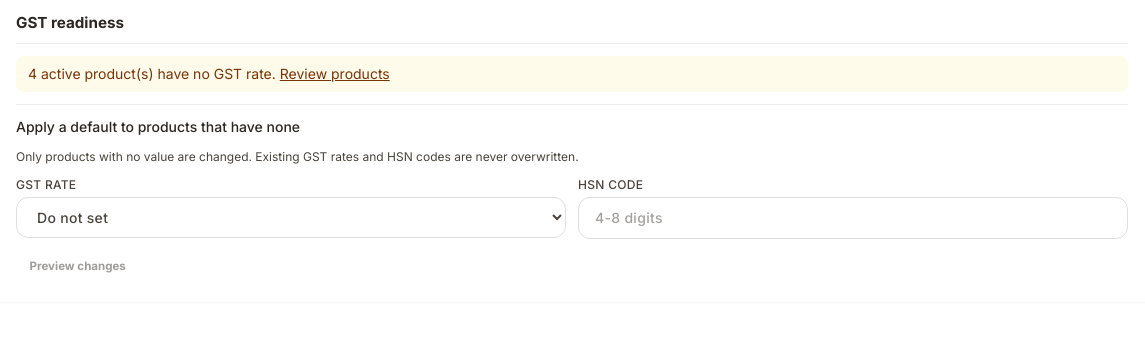
Test: InvoiceTaxReadiness › requires a preview and explicit confirmation before applying defaults
Expected: the button "Preview changes" is disabled, [16, 251, 139, 282]
Select "12%" in the dropdown named "Default GST rate for products" at (291, 217), box [16, 197, 566, 238]
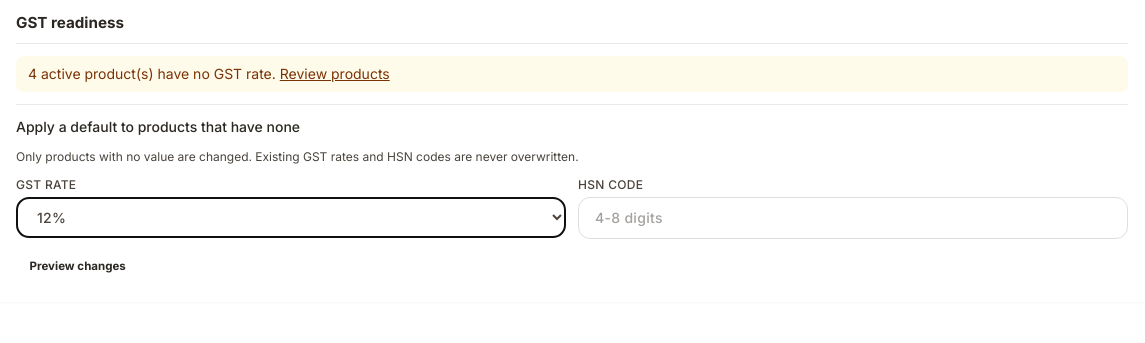
Click the button "Preview changes" at (78, 267), box [16, 251, 139, 282]
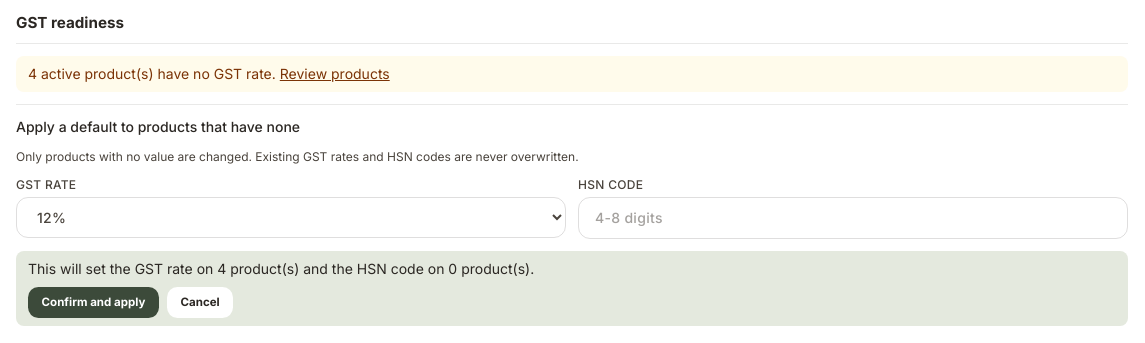
Now the text "set the GST rate on 4 product" is shown, box [28, 260, 534, 277]
Click the button "Confirm and apply" at (94, 302), box [28, 287, 159, 318]
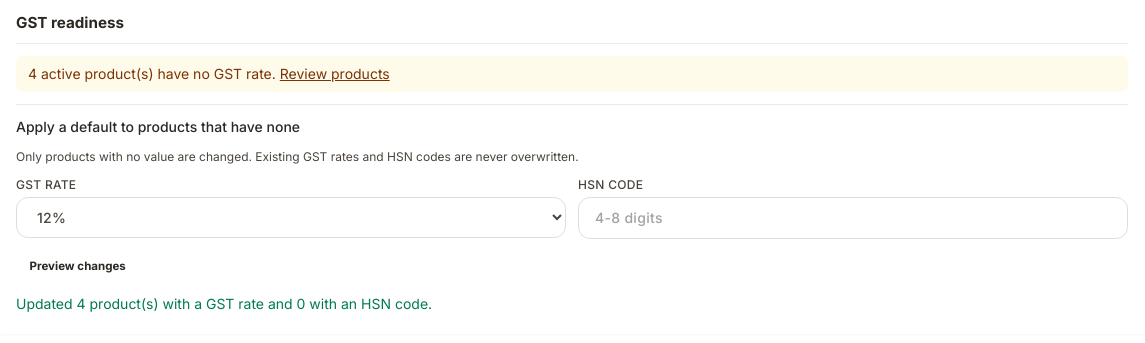
Now the text "Updated 4 product(s) with a GST rate and 0 with an HSN code." is shown, box [16, 295, 432, 312]
